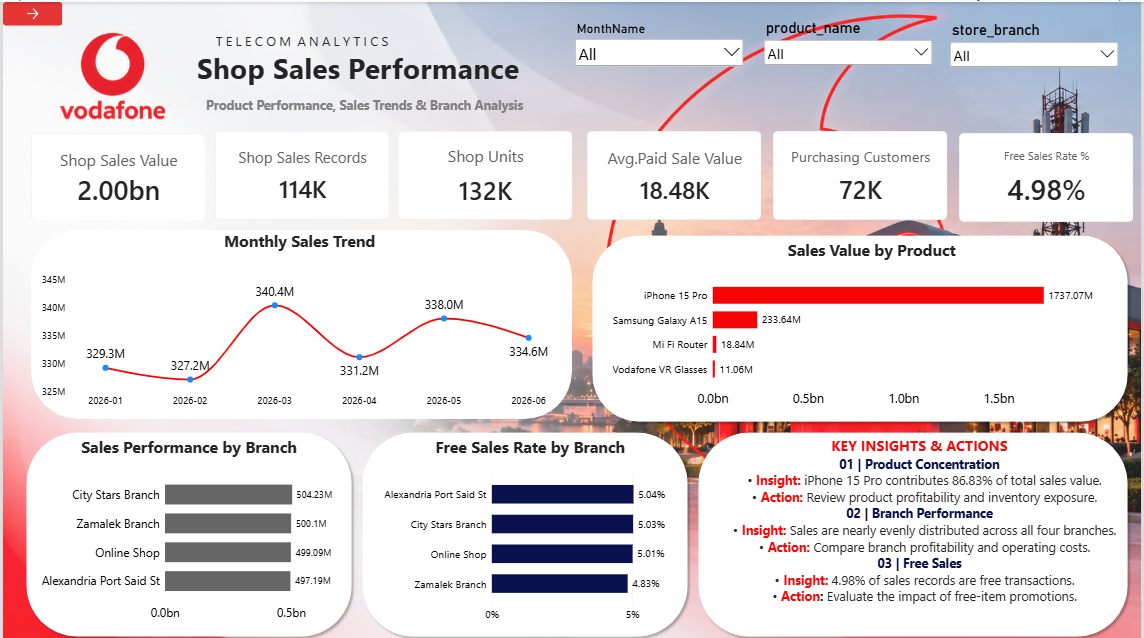

The dashboard page shown, as its layout file describes it:
{"tool":"powerbi","page":{"name":"Shop Sales","canvas":[1920,1080],"ordinal":4},"visuals":[{"type":"textbox","box":[283.5,50.6,442.1,54],"z":0},{"type":"textbox","box":[327.4,77.6,632.8,81],"z":1000},{"type":"textbox","box":[283.5,158.6,653.1,47.2],"z":2000},{"type":"cardVisual","fields":{"Data":["DAXX Measures.Shop Sales Value"]},"box":[47.6,221.1,294.2,149.7],"z":3000},{"type":"cardVisual","fields":{"Data":["DAXX Measures.Shop Sales Records"]},"box":[357.1,217.7,294,150.2],"z":4000},{"type":"cardVisual","fields":{"Data":["DAXX Measures.Shop Units"]},"box":[666.6,217.7,294,150.2],"z":5000},{"type":"cardVisual","fields":{"Data":["DAXX Measures.Avg.Paid Sale Value"]},"box":[984.7,217.7,294,150.2],"z":6000},{"type":"cardVisual","fields":{"Data":["DAXX Measures.Purchasing Customers"]},"box":[1299.3,217.7,294,150.2],"z":7000},{"type":"shape","box":[47.2,384.8,912.9,318.9],"z":8000},{"type":"textbox","box":[0,384.8,1000.7,57.4],"z":9000},{"type":"cardVisual","fields":{"Data":["DAXX Measures.Free Sales Rate %"]},"box":[1613.9,221.1,294,150.2],"z":10000},{"type":"shape","box":[985.5,384.8,921.4,332.4],"z":11000},{"type":"textbox","box":[1079.9,399.6,772.1,62.9],"z":12000},{"type":"shape","box":[30.4,717.2,567,362.8],"z":13000},{"type":"textbox","box":[72.6,732.4,482.6,40.5],"z":14000},{"type":"lineChart","fields":{"Category":["DimDate.YearMonth"],"Y":["DAXX Measures.Shop Sales Value"]},"box":[48.9,442.1,911.2,261.6],"z":15000},{"type":"clusteredBarChart","fields":{"Category":["FactShopSales.product_name"],"Y":["DAXX Measures.Shop Sales Value"]},"box":[1000.7,442.1,882.6,261.6],"z":16000},{"type":"clusteredBarChart","fields":{"Category":["FactShopSales.store_branch"],"Y":["DAXX Measures.Shop Sales Value"]},"box":[30.4,772.9,567,293.6],"z":17000},{"type":"shape","box":[597.4,717.2,567,362.8],"z":18000},{"type":"textbox","box":[626.1,732.4,519.8,74.2],"z":19000},{"type":"clusteredBarChart","fields":{"Category":["FactShopSales.store_branch"],"Y":["DAXX Measures.Free Sales Rate %"]},"box":[610.9,772.9,534.9,293.6],"z":20000},{"type":"shape","box":[1164.4,717.2,742.5,362.8],"z":21000},{"type":"textbox","box":[1209.9,732.4,673.3,347.6],"z":22000},{"type":"slicer","fields":{"Values":["DimDate.MonthName"]},"box":[960.2,32.1,293.6,86.1],"z":22001},{"type":"slicer","fields":{"Values":["FactShopSales.product_name"]},"box":[1279.1,28.7,293.6,89.4],"z":22002},{"type":"slicer","fields":{"Values":["FactShopSales.store_branch"]},"box":[1593,32.1,293.6,89.4],"z":22003},{"type":"actionButton","box":[0,0,100,40],"z":22004}]}

Visuals, with their boxes in screenshot pixels (x1, y1, x2, y2), scaled from the page's 1920x1080 canvas onto the 1144x638 screenshot:
textbox: (169, 30, 432, 62)
textbox: (195, 46, 572, 94)
textbox: (169, 94, 558, 122)
cardVisual - DAXX Measures.Shop Sales Value: (28, 131, 204, 219)
cardVisual - DAXX Measures.Shop Sales Records: (213, 129, 388, 217)
cardVisual - DAXX Measures.Shop Units: (397, 129, 572, 217)
cardVisual - DAXX Measures.Avg.Paid Sale Value: (587, 129, 762, 217)
cardVisual - DAXX Measures.Purchasing Customers: (774, 129, 949, 217)
shape: (28, 227, 572, 416)
textbox: (0, 227, 596, 261)
cardVisual - DAXX Measures.Free Sales Rate %: (962, 131, 1137, 219)
shape: (587, 227, 1136, 424)
textbox: (643, 236, 1103, 273)
shape: (18, 424, 356, 637)
textbox: (43, 433, 331, 457)
lineChart - DimDate.YearMonth x DAXX Measures.Shop Sales Value: (29, 261, 572, 416)
clusteredBarChart - FactShopSales.product_name x DAXX Measures.Shop Sales Value: (596, 261, 1122, 416)
clusteredBarChart - FactShopSales.store_branch x DAXX Measures.Shop Sales Value: (18, 457, 356, 630)
shape: (356, 424, 694, 637)
textbox: (373, 433, 683, 476)
clusteredBarChart - FactShopSales.store_branch x DAXX Measures.Free Sales Rate %: (364, 457, 683, 630)
shape: (694, 424, 1136, 637)
textbox: (721, 433, 1122, 637)
slicer - DimDate.MonthName: (572, 19, 747, 70)
slicer - FactShopSales.product_name: (762, 17, 937, 70)
slicer - FactShopSales.store_branch: (949, 19, 1124, 72)
actionButton: (0, 0, 60, 24)
